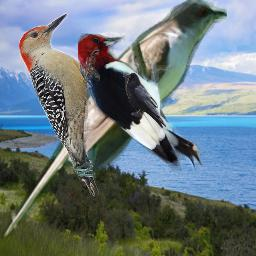Crow: (123, 72, 167, 129)
Cuckoo: (0, 0, 227, 241)
Woodpecker: (78, 33, 206, 171), (19, 11, 100, 197)
